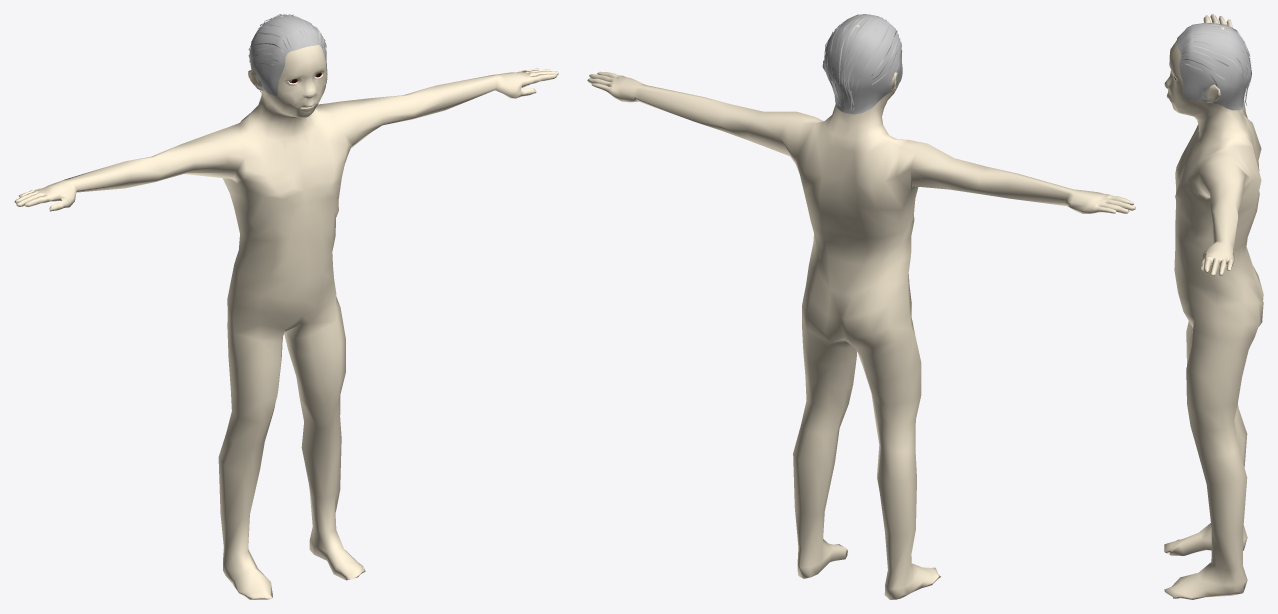
Rendered from Indio_criança.fbx.
3 renders of one model, left to right at view 1: azimuth 30°, elevation 25°; view 2: azimuth 150°, elevation 25°; view 3: azimuth 270°, elevation 25°, orthographic. The views are drawn at different scales.
Visible parts, largest first — view 1: male1591Mesh, short04Mesh; view 2: male1591Mesh, short04Mesh; view 3: male1591Mesh, short04Mesh.
Boxes of the visible parts, x1,y1,x2,y2 form: male1591Mesh: (14, 15, 558, 599); short04Mesh: (248, 14, 327, 95); male1591Mesh: (587, 24, 1135, 599); short04Mesh: (823, 14, 902, 114); male1591Mesh: (1164, 14, 1263, 599); short04Mesh: (1176, 23, 1251, 110).
Size of the model in its own units: 43.66 by 42.75 by 7.04.
